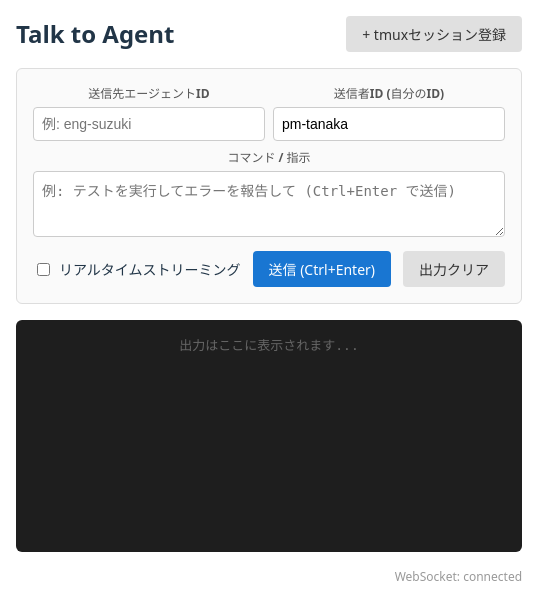
Test: TalkToAgent › 送信成功時に出力が表示される
This screenshot has width=539, height=598.
Type "eng-test" into the field with placeholder "例: eng-suzuki" at (149, 124), box [33,107,265,141]
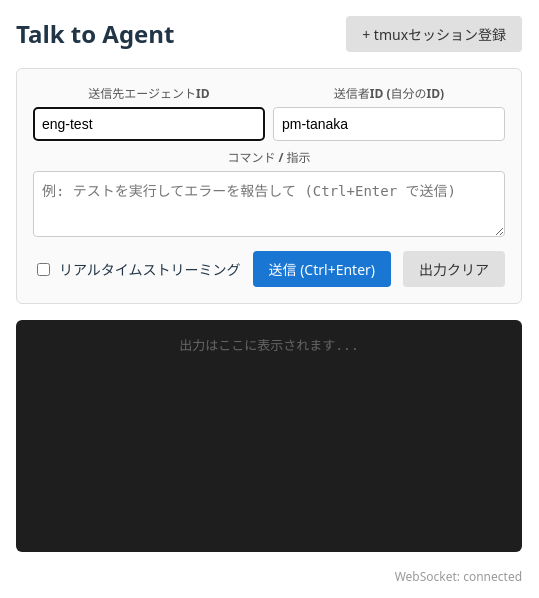
Type "echo hello" into the text box with placeholder "例: テストを実行してエラーを報告して (Ctrl+Enter で送信)" at (269, 204), box [33,171,505,237]
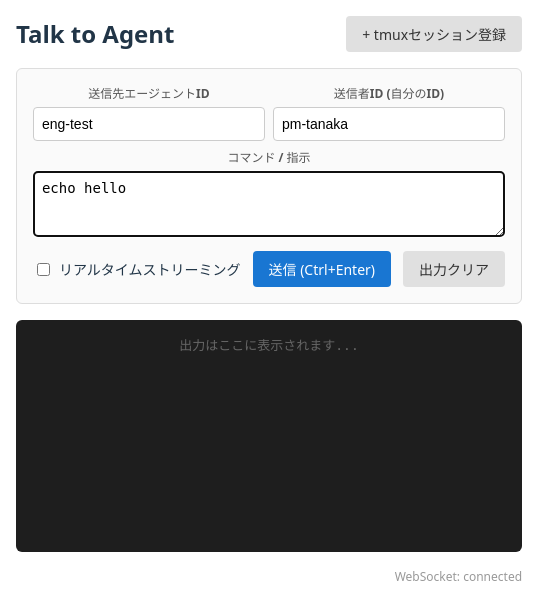
Click the button "送信 (Ctrl+Enter)" at (322, 269), box [252,251,391,287]
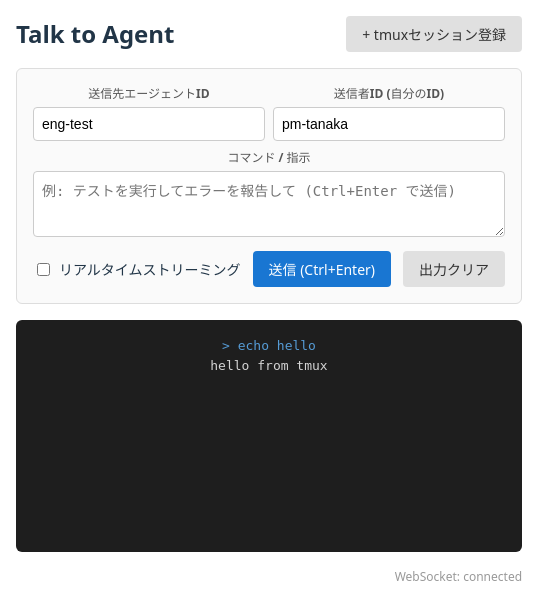
Result: the text "hello from tmux" is shown at [210,358,328,372]
